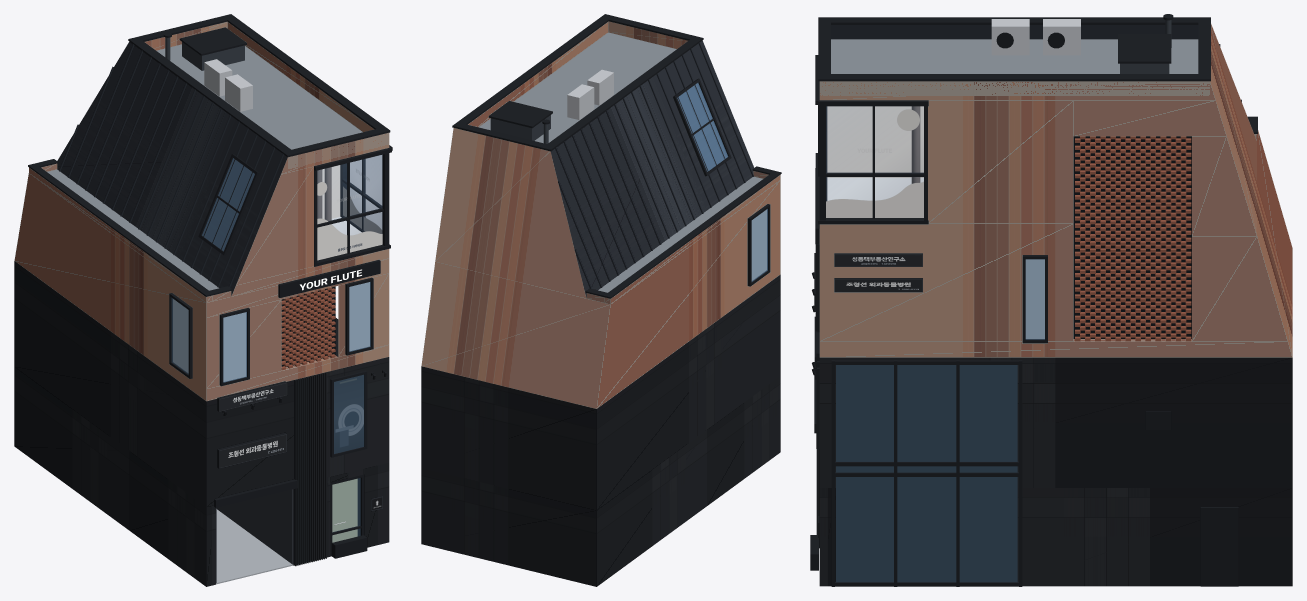
File: place_조형선외과동물병원.glb
3 views of the same model, side by side, from view 1: azimuth 30°, elevation 25°; view 2: azimuth 150°, elevation 25°; view 3: azimuth 270°, elevation 25° (orthographic). The views are drawn at different scales.
Visible parts, largest first — view 1: Merged_Brick_Walls, Base_2F_FullMass, Merged_Zinc_Mansard_Roof, Base_1F_RearMass, Merged_Roof_Urethane_Deck, Merged_Roof_Coping, Merged_Zinc_StandingSeam_Ribs, Base_1F_LeftPier, Merged_Front_VerticalSlat_Fins, CornerWindow_4F_FrontGlass, Merged_Brick_Parapet_Trim, Merged_Window_BlackFrames (+24 smaller); view 2: Merged_Brick_Walls, Base_2F_FullMass, Merged_Zinc_Mansard_Roof, Base_1F_RearMass, Merged_Roof_Urethane_Deck, Merged_Roof_Coping, Merged_Zinc_StandingSeam_Ribs, Base_1F_LeftPier, Merged_Brick_Parapet_Trim, NW_Slanted_Skylight_Glass, Merged_Window_BlackFrames, Merged_Rooftop_AC_Units (+2 smaller); view 3: Merged_Brick_Walls, JoHyeongSeon_AnimalHospital_Building, Base_2F_FullMass, SE_Lower_CurtainWall_Glass, Base_1F_RearMass, Merged_Perforated_Bricks, Merged_Window_BlackFrames, Merged_Perf_Void_Back, CornerWindow_4F_RightGlass, Merged_Roof_Urethane_Deck, Merged_Roof_Coping, Merged_Studio_4F_Interior (+8 smaller).
Boxes of the visible parts, box(x1,y1,x2,y2) form: Merged_Brick_Walls: box(14, 132, 389, 401); Base_2F_FullMass: box(14, 261, 389, 506); Merged_Zinc_Mansard_Roof: box(57, 42, 287, 295); Base_1F_RearMass: box(14, 367, 129, 530); Merged_Roof_Urethane_Deck: box(47, 44, 362, 290); Merged_Roof_Coping: box(28, 14, 390, 296); Merged_Zinc_StandingSeam_Ribs: box(59, 44, 283, 287); Base_1F_LeftPier: box(129, 451, 215, 586); Merged_Front_VerticalSlat_Fins: box(294, 372, 326, 566); CornerWindow_4F_FrontGlass: box(317, 155, 382, 260); Merged_Brick_Parapet_Trim: box(29, 21, 389, 302); Merged_Window_BlackFrames: box(169, 154, 373, 457); Merged_Brick_Walls: box(421, 128, 780, 408); Base_2F_FullMass: box(421, 274, 780, 510); Merged_Zinc_Mansard_Roof: box(550, 40, 754, 297); Base_1F_RearMass: box(421, 430, 706, 586); Merged_Roof_Urethane_Deck: box(479, 32, 762, 292); Merged_Roof_Coping: box(452, 14, 781, 298); Merged_Zinc_StandingSeam_Ribs: box(555, 42, 754, 288); Base_1F_LeftPier: box(707, 376, 780, 505); Merged_Brick_Parapet_Trim: box(468, 21, 780, 304); NW_Slanted_Skylight_Glass: box(677, 82, 728, 171); Merged_Window_BlackFrames: box(673, 78, 770, 286); Merged_Rooftop_AC_Units: box(567, 69, 613, 119); Merged_Brick_Walls: box(819, 24, 1292, 357); JoHyeongSeon_AnimalHospital_Building: box(836, 259, 1044, 581); Base_2F_FullMass: box(819, 357, 1292, 487); SE_Lower_CurtainWall_Glass: box(836, 365, 1017, 582); Base_1F_RearMass: box(1017, 488, 1292, 586); Merged_Perforated_Bricks: box(1075, 136, 1191, 341); Merged_Window_BlackFrames: box(815, 153, 1238, 586); Merged_Perf_Void_Back: box(1073, 136, 1191, 338); CornerWindow_4F_RightGlass: box(826, 106, 923, 217); Merged_Roof_Urethane_Deck: box(831, 39, 1198, 73); Merged_Roof_Coping: box(818, 14, 1257, 133); Merged_Studio_4F_Interior: box(827, 106, 923, 200).
Size of the model in its own units: 6.81 by 14.62 by 12.23.
Materials: 29 (12 with a texture image).
